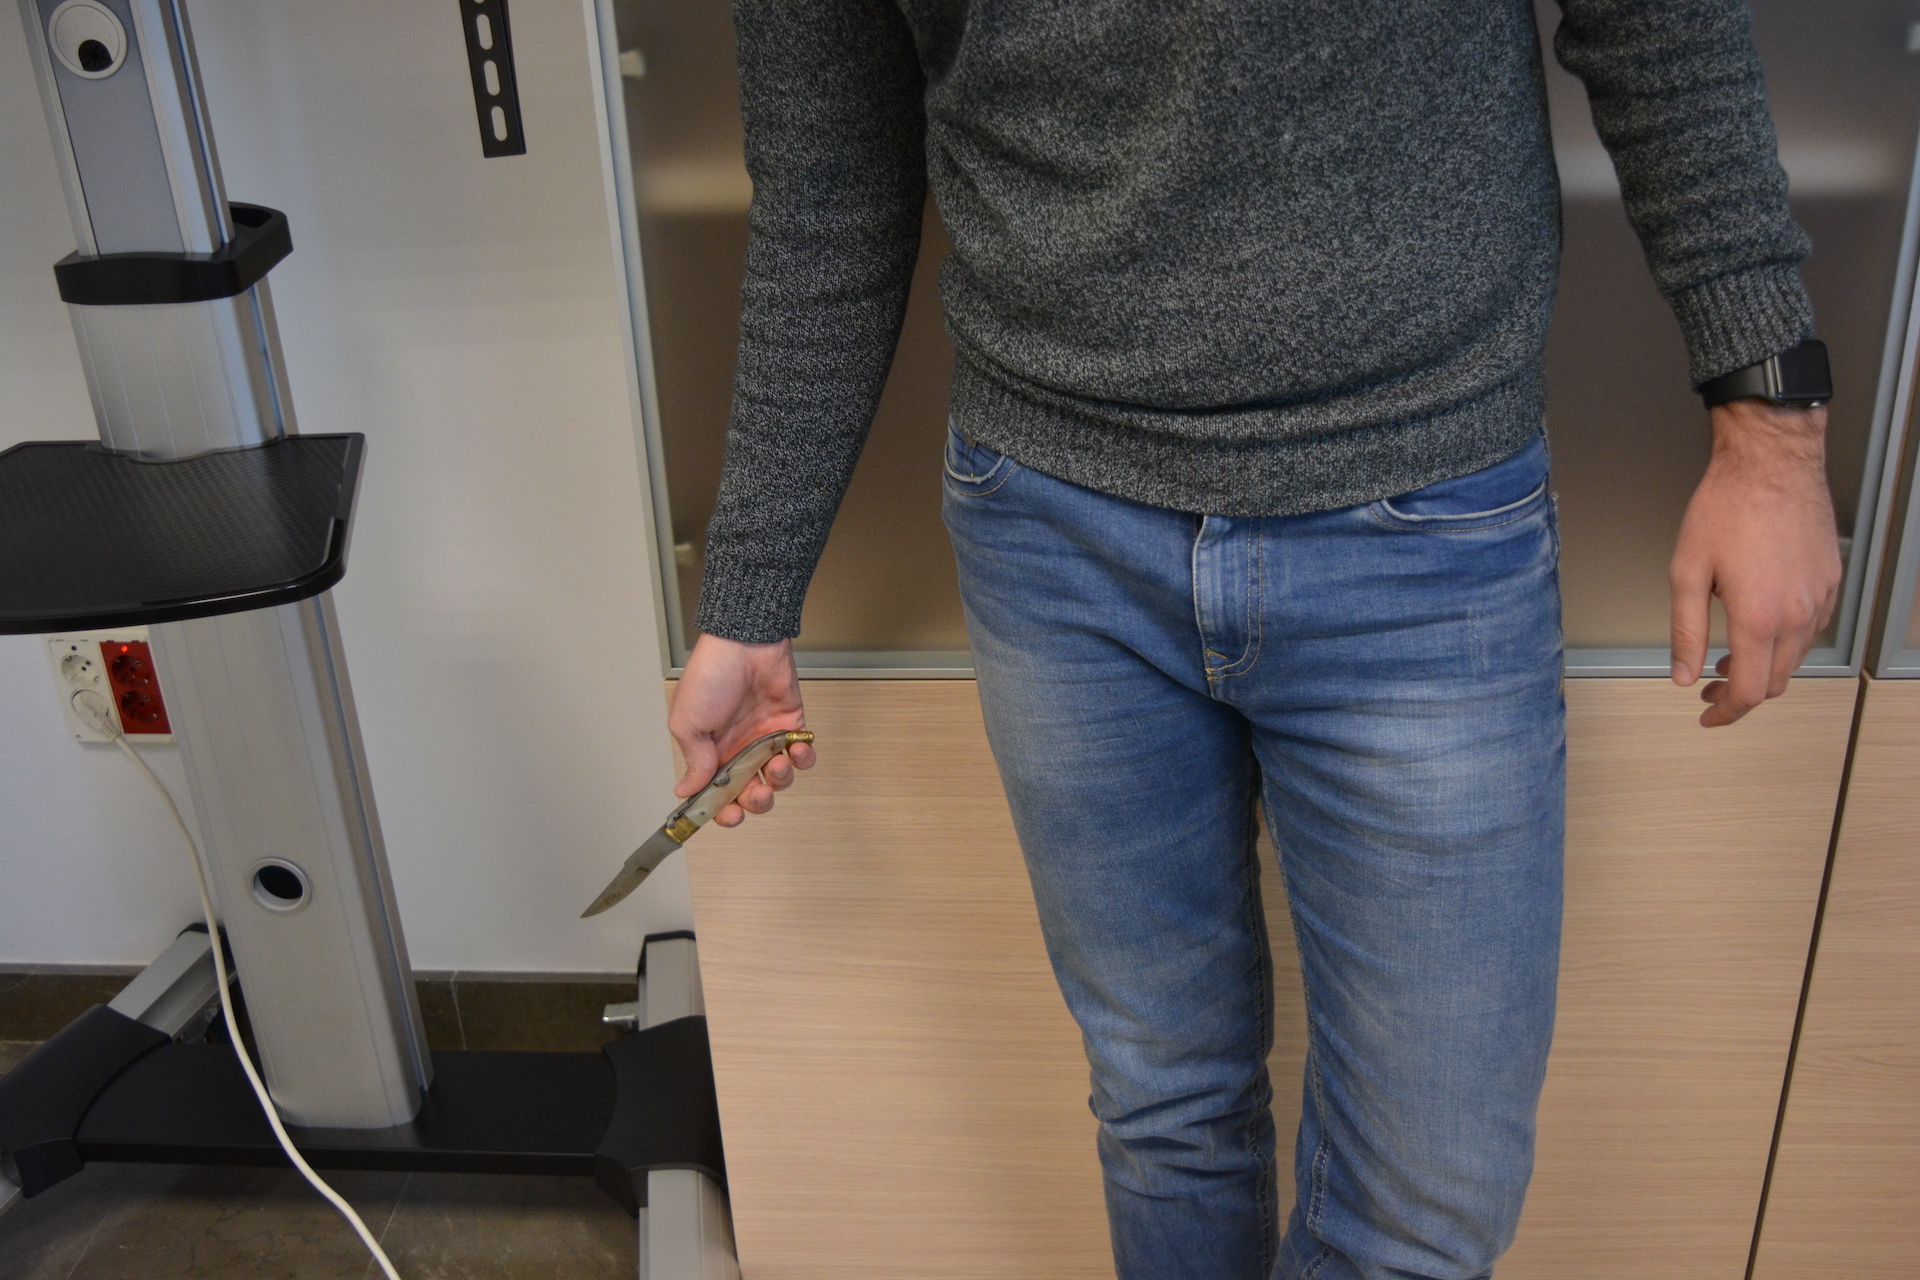knife: (571, 720, 827, 927)
